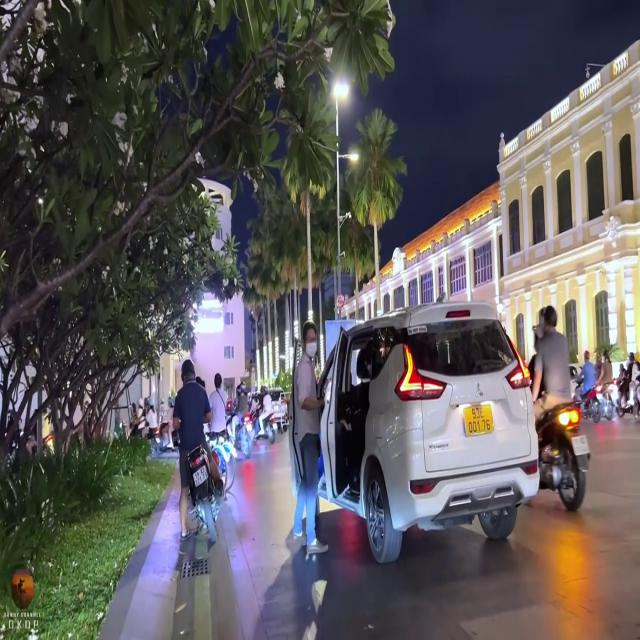bien_vang: (461, 404, 505, 445)
